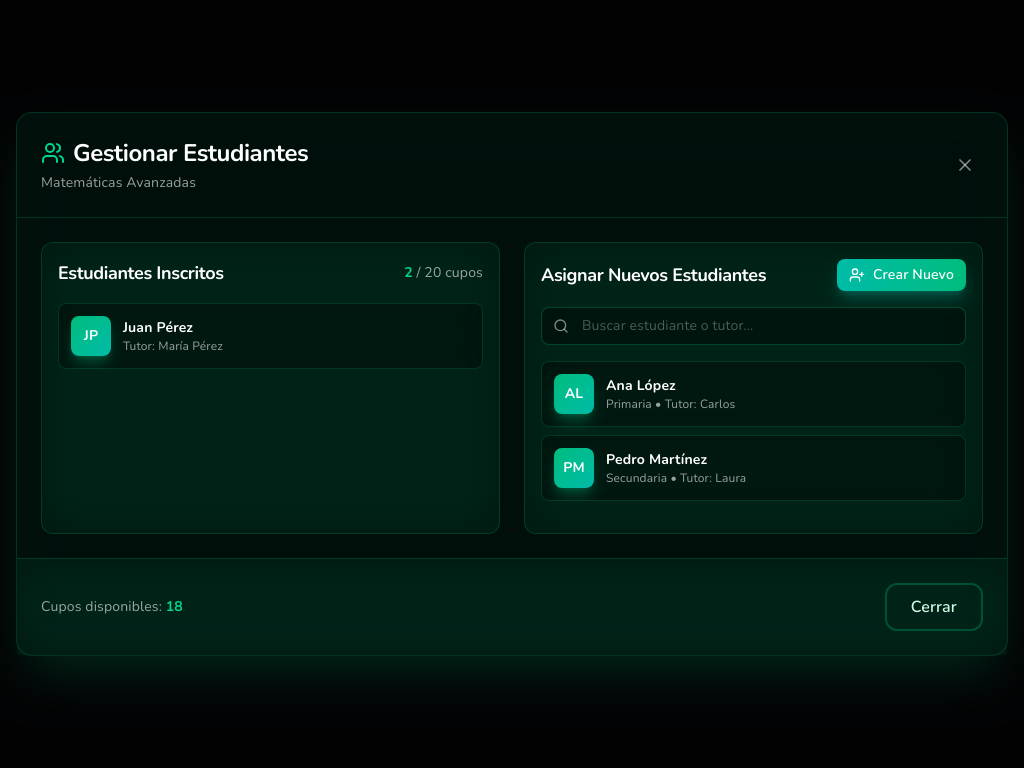
GestionarEstudiantesModal › Interacciones › deselecciona estudiante al hacer click nuevamente
Click the text "Ana López" at (641, 386), box [606,376,676,395]
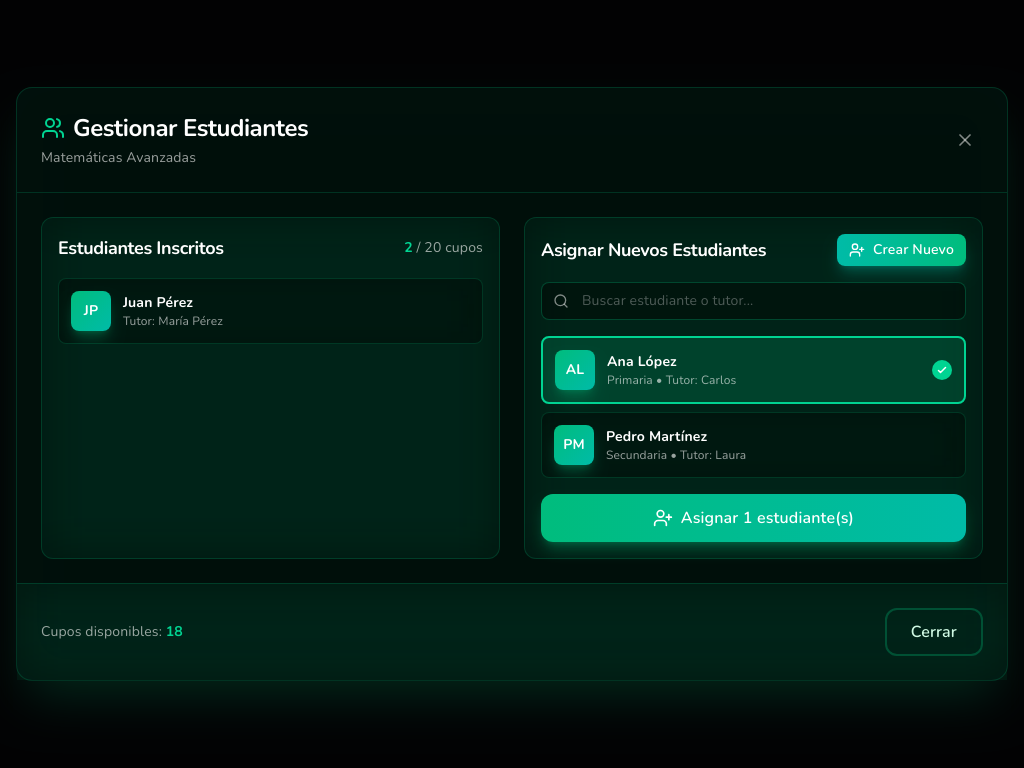
Expected: the button "Asignar 1 estudiante(s)" is shown, [541,494,966,542]
Click the text "Ana López" at (642, 362), box [607,352,677,371]
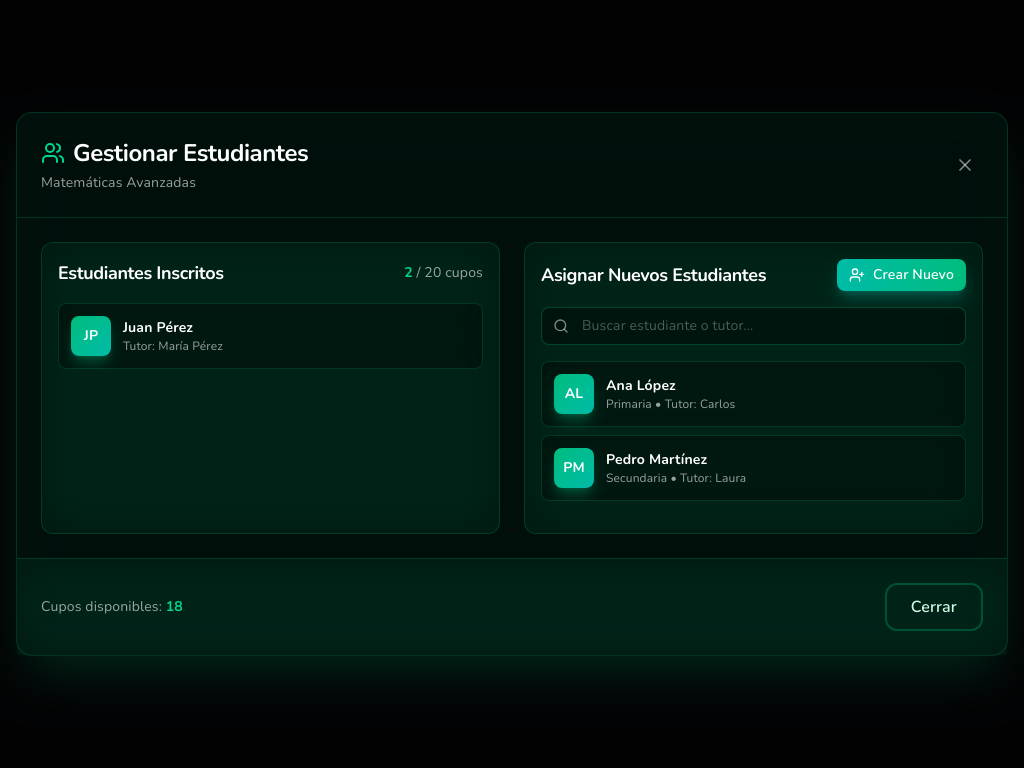
Expected: the button "Asignar 1 estudiante(s)" is gone
